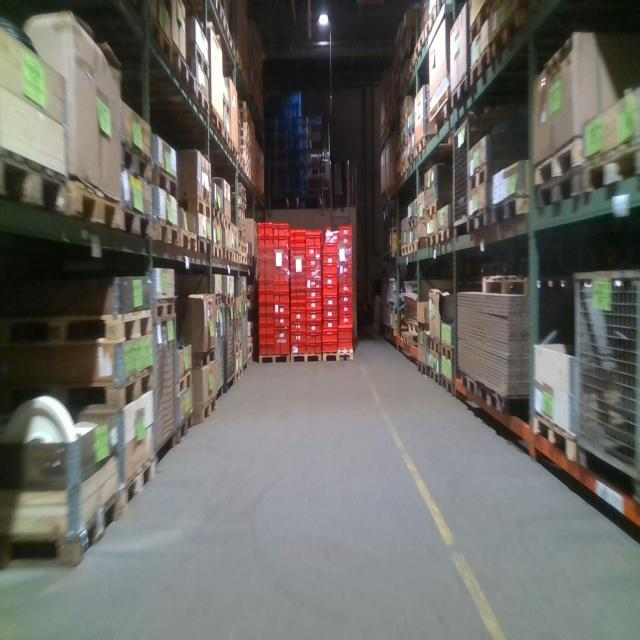pallet: (1, 484, 124, 575), (1, 363, 153, 419), (0, 304, 153, 349), (0, 146, 69, 228), (68, 172, 121, 242), (536, 160, 587, 217), (536, 133, 589, 187), (492, 0, 532, 66), (531, 408, 578, 461), (119, 450, 158, 512), (586, 149, 640, 192), (479, 375, 533, 413), (119, 140, 153, 190), (147, 8, 173, 73), (479, 268, 533, 297), (171, 36, 195, 101), (119, 202, 152, 245), (467, 158, 511, 188), (151, 213, 179, 256), (467, 42, 491, 92), (488, 196, 533, 222), (153, 159, 182, 199), (467, 1, 490, 48), (174, 194, 212, 222), (214, 14, 236, 61), (187, 37, 211, 80), (172, 407, 196, 446), (193, 389, 220, 423), (465, 205, 490, 238), (448, 74, 469, 112), (451, 214, 476, 244), (427, 100, 451, 131), (412, 135, 442, 159), (458, 365, 479, 399), (193, 344, 219, 371), (153, 293, 178, 321), (176, 224, 197, 257), (290, 349, 322, 367), (205, 1, 225, 29), (196, 84, 210, 123), (322, 351, 356, 366), (195, 231, 212, 259), (176, 369, 192, 397), (435, 224, 453, 248), (257, 354, 290, 367), (210, 105, 222, 140), (209, 197, 223, 226), (424, 200, 448, 216), (401, 330, 420, 348), (441, 371, 455, 394), (440, 341, 455, 362), (428, 366, 442, 387), (221, 92, 231, 118), (406, 149, 417, 172), (428, 336, 441, 355), (223, 126, 232, 152), (224, 290, 236, 308), (425, 233, 439, 248), (409, 238, 424, 252), (212, 243, 223, 262), (417, 359, 429, 376), (407, 217, 423, 228), (221, 215, 231, 232), (224, 247, 234, 264), (211, 295, 224, 308), (398, 244, 411, 256), (397, 165, 409, 178), (234, 341, 243, 354), (235, 367, 242, 383), (234, 314, 243, 326)
small_load_carrier: (275, 327, 289, 355), (257, 223, 274, 238), (323, 328, 337, 342), (338, 224, 353, 237), (323, 306, 338, 319), (274, 248, 289, 261), (258, 281, 273, 294), (274, 225, 290, 237), (258, 238, 274, 250), (258, 345, 274, 357), (338, 327, 353, 339), (323, 264, 338, 276), (306, 322, 321, 334), (259, 303, 274, 315), (259, 325, 274, 337), (274, 237, 290, 248), (274, 294, 290, 305), (259, 260, 273, 272), (306, 234, 321, 245), (306, 246, 321, 257), (306, 257, 321, 268), (306, 268, 321, 279), (306, 311, 321, 322), (307, 343, 322, 354), (291, 322, 306, 333), (274, 283, 289, 294), (275, 305, 290, 316), (322, 342, 338, 352), (274, 273, 290, 283), (258, 294, 274, 304), (339, 339, 353, 350), (339, 264, 353, 275), (339, 305, 353, 316), (274, 261, 288, 272), (275, 316, 289, 327), (323, 244, 338, 254), (323, 254, 338, 264), (323, 276, 338, 286), (323, 286, 338, 296), (323, 296, 338, 306), (306, 279, 321, 289), (306, 290, 321, 300), (306, 301, 321, 311), (291, 311, 306, 321), (291, 333, 306, 343), (291, 343, 306, 353), (339, 284, 353, 294), (339, 294, 353, 304), (258, 250, 273, 259), (259, 315, 274, 324), (338, 238, 354, 246), (339, 246, 353, 255), (339, 255, 353, 264), (339, 275, 353, 284), (339, 316, 353, 325), (323, 319, 337, 328), (307, 334, 321, 343), (259, 272, 273, 281), (291, 231, 306, 239), (259, 337, 274, 345), (291, 288, 305, 296), (291, 303, 305, 311), (290, 266, 305, 273), (290, 239, 304, 246), (291, 281, 305, 288), (291, 296, 305, 303), (290, 246, 305, 252), (290, 253, 305, 259), (290, 260, 305, 266), (291, 275, 305, 281)
stillage: (575, 269, 639, 470), (450, 109, 507, 239), (150, 306, 181, 466), (208, 297, 226, 408), (225, 300, 237, 394)
